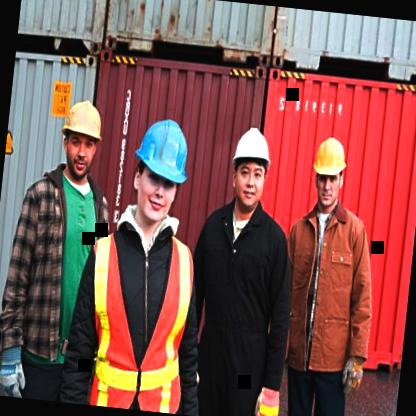helmet: (120, 105, 200, 227), (220, 116, 280, 218), (51, 91, 110, 185), (305, 126, 352, 212)
